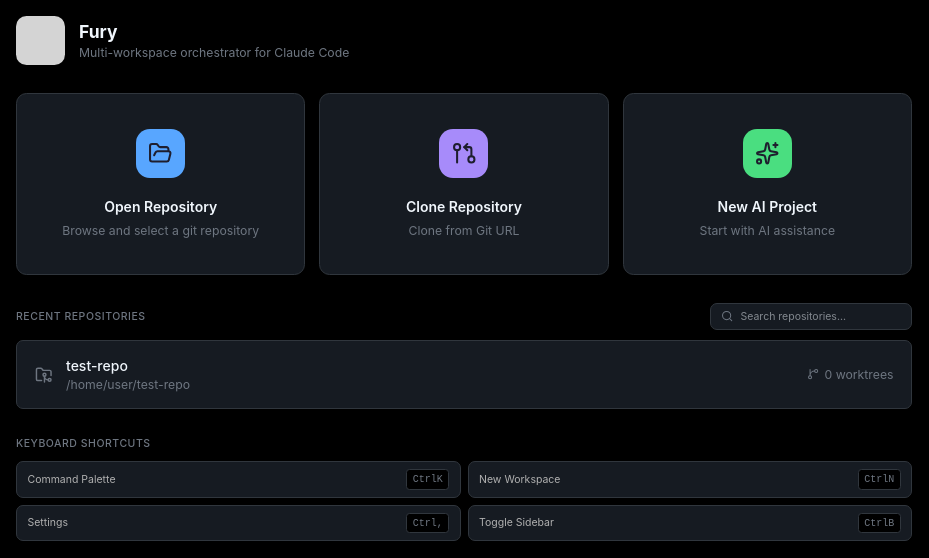
Test: LandingPage › RecentRepositories › shows no match message when search has no results
Type "nonexistent" into the field with placeholder "Search repositories...". click: (820,316)
box: [740,310,900,324]
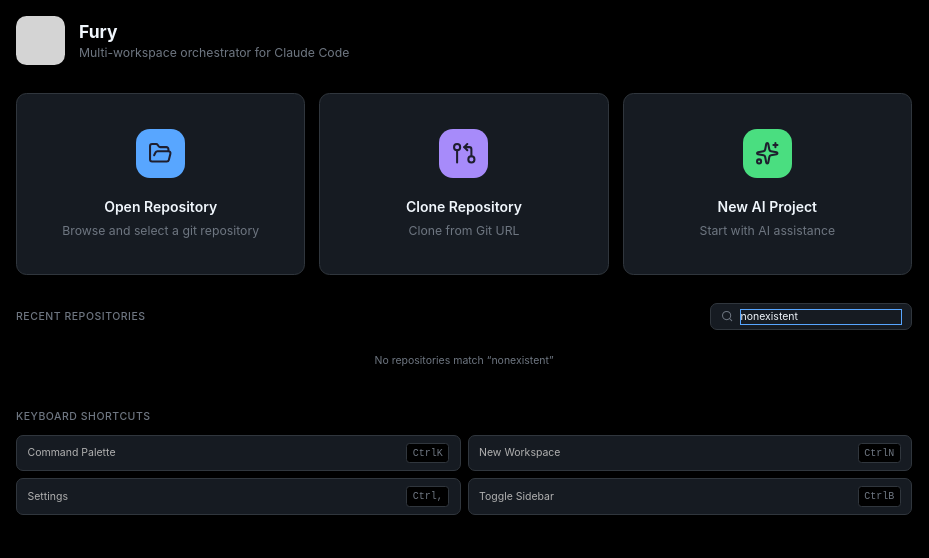
Check: the text "No repositories match “nonexistent”" is shown, box [374,354,554,367]
